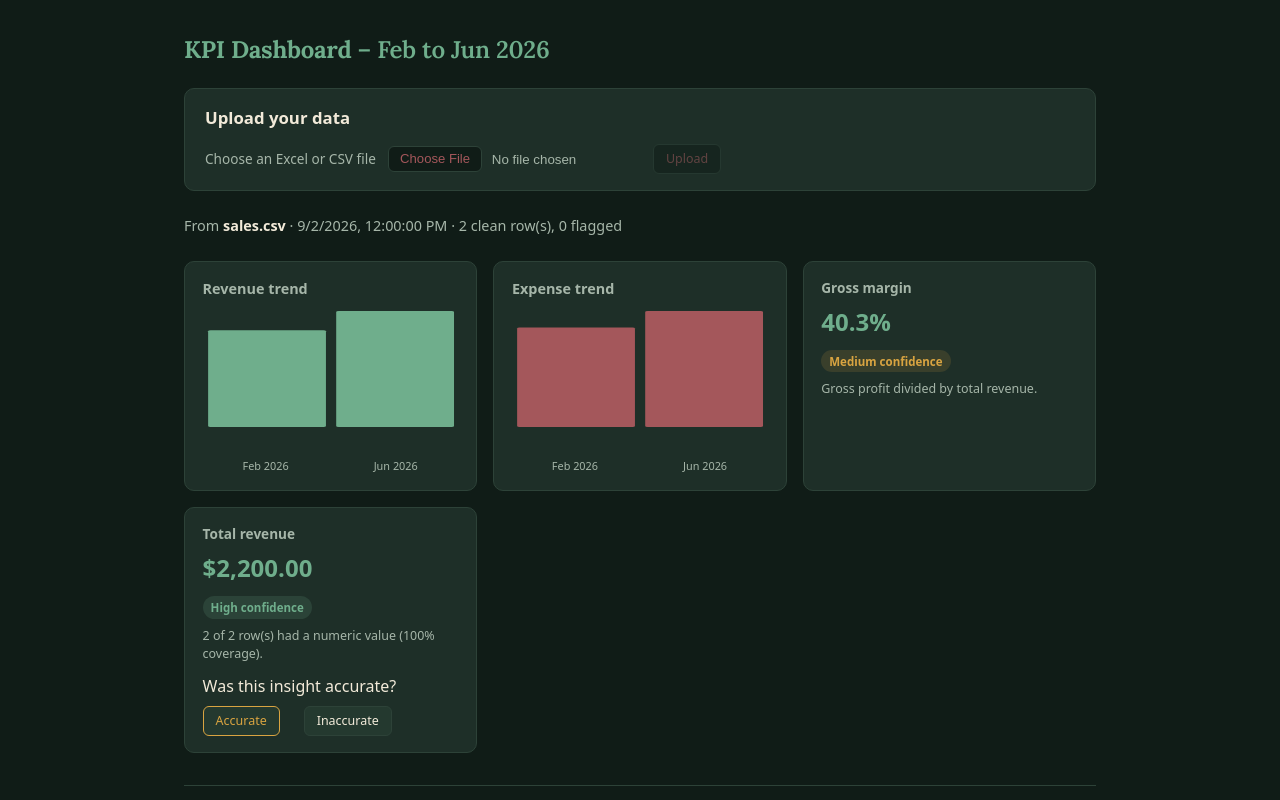
Test case: Dashboard — feedback prompts (STORY-009 / REQ-011) › a failed feedback submission shows a friendly error without crashing the page (User interface issues)
Check: the text "Was this insight accurate?" is shown, box left=203, top=675, right=396, bottom=697
What coordinates should you click on to do the following:
click the button "Accurate"
I would click on:
 (241, 721)
Its box is left=203, top=706, right=280, bottom=736.
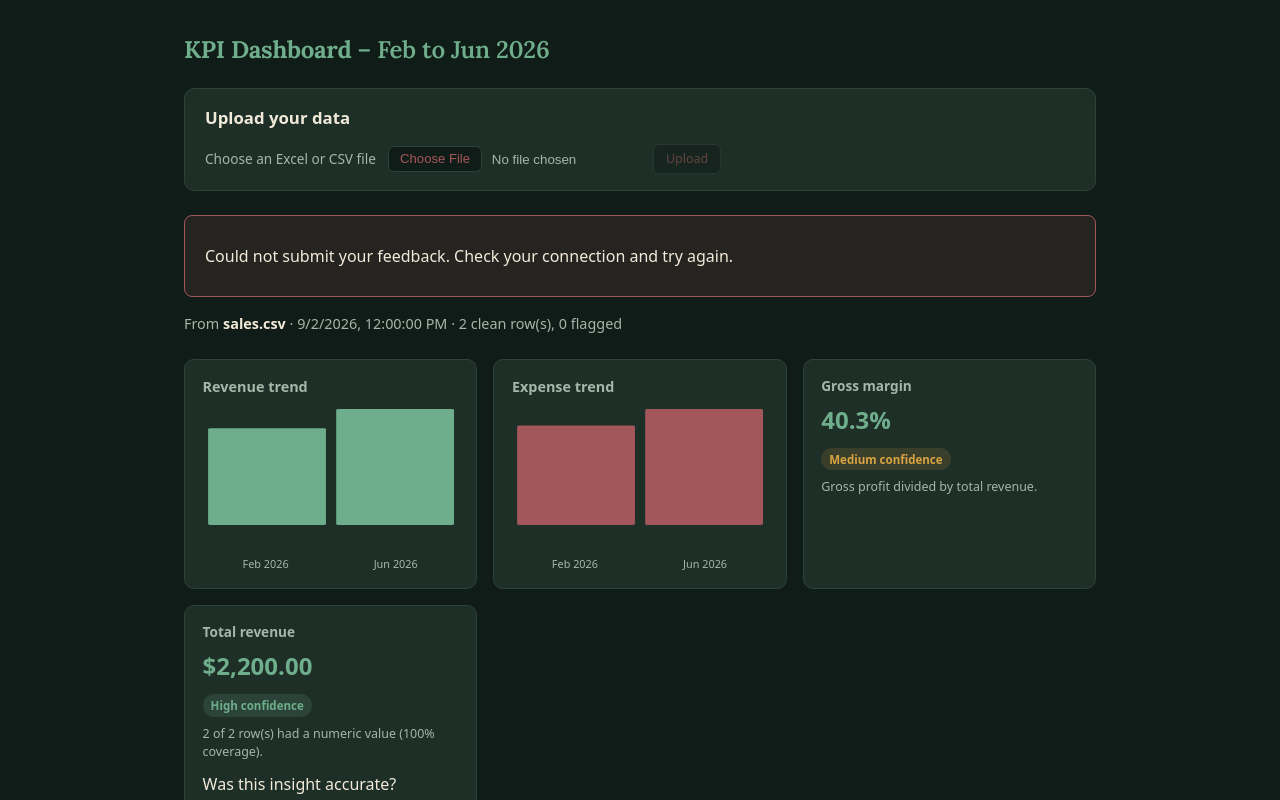
Check: the heading "Total revenue" is shown, box left=203, top=622, right=295, bottom=641
Check: the text "Could not submit your feedback" is shown, box left=205, top=245, right=733, bottom=267
